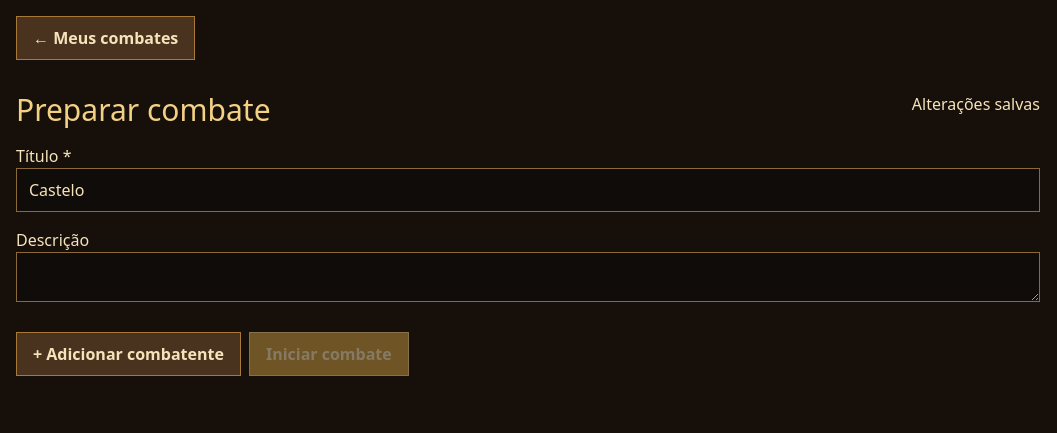
Scenario: bloqueia saída de combate enquanto uma alteração está sendo salva
Replace the text in the field showing "Castelo" with "Fortaleza": (528, 190) [16,168,1040,212]
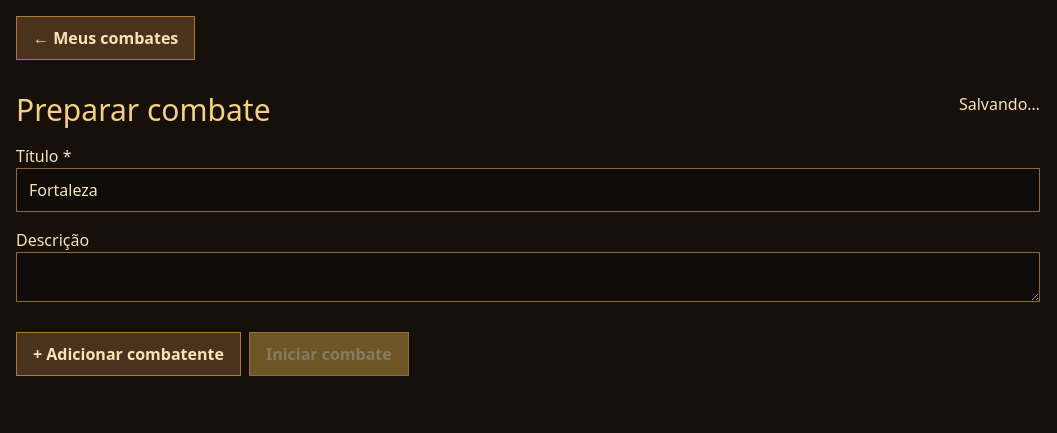
Click the button "← Meus combates": click(106, 38) [16,16,195,60]
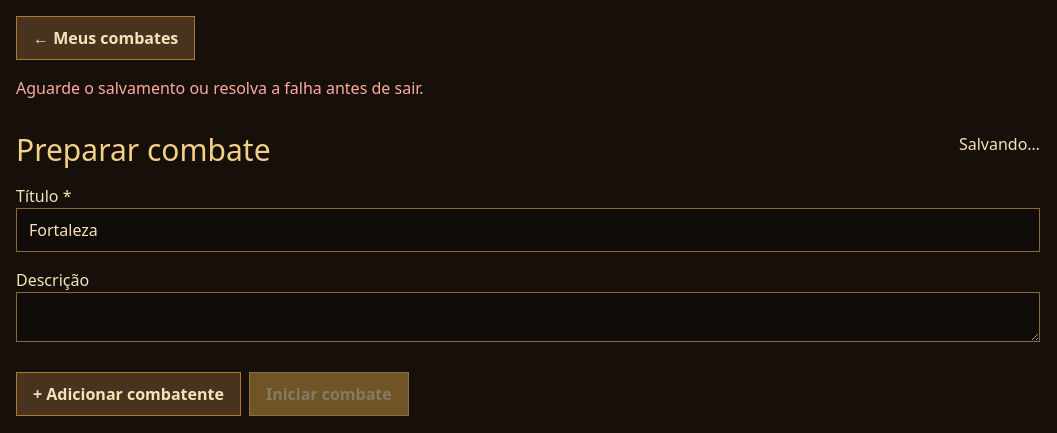
Expected: the text "Aguarde o salvamento ou resolva a falha antes de sair." is shown, [16,77,424,99]
